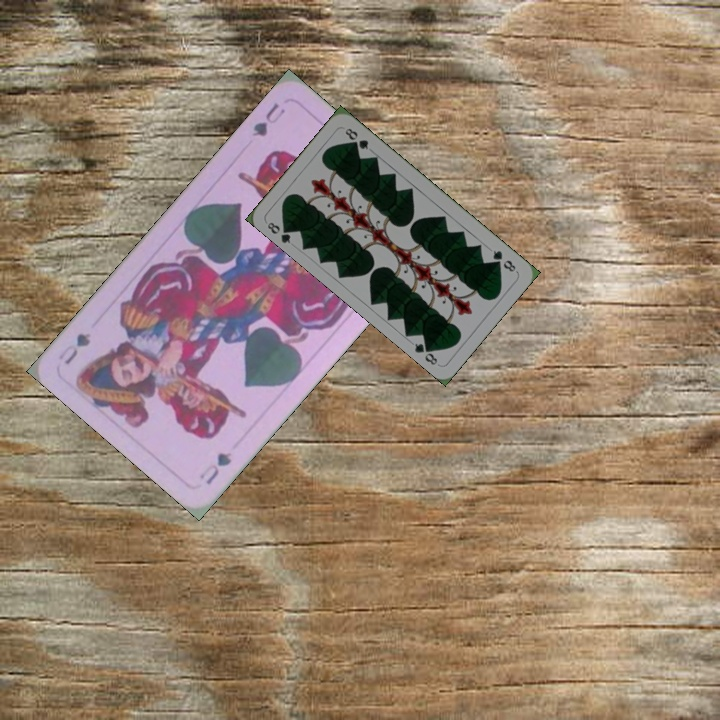G8: (263, 218, 295, 246), (489, 246, 518, 275)
GU: (248, 98, 288, 140), (195, 447, 234, 487)
